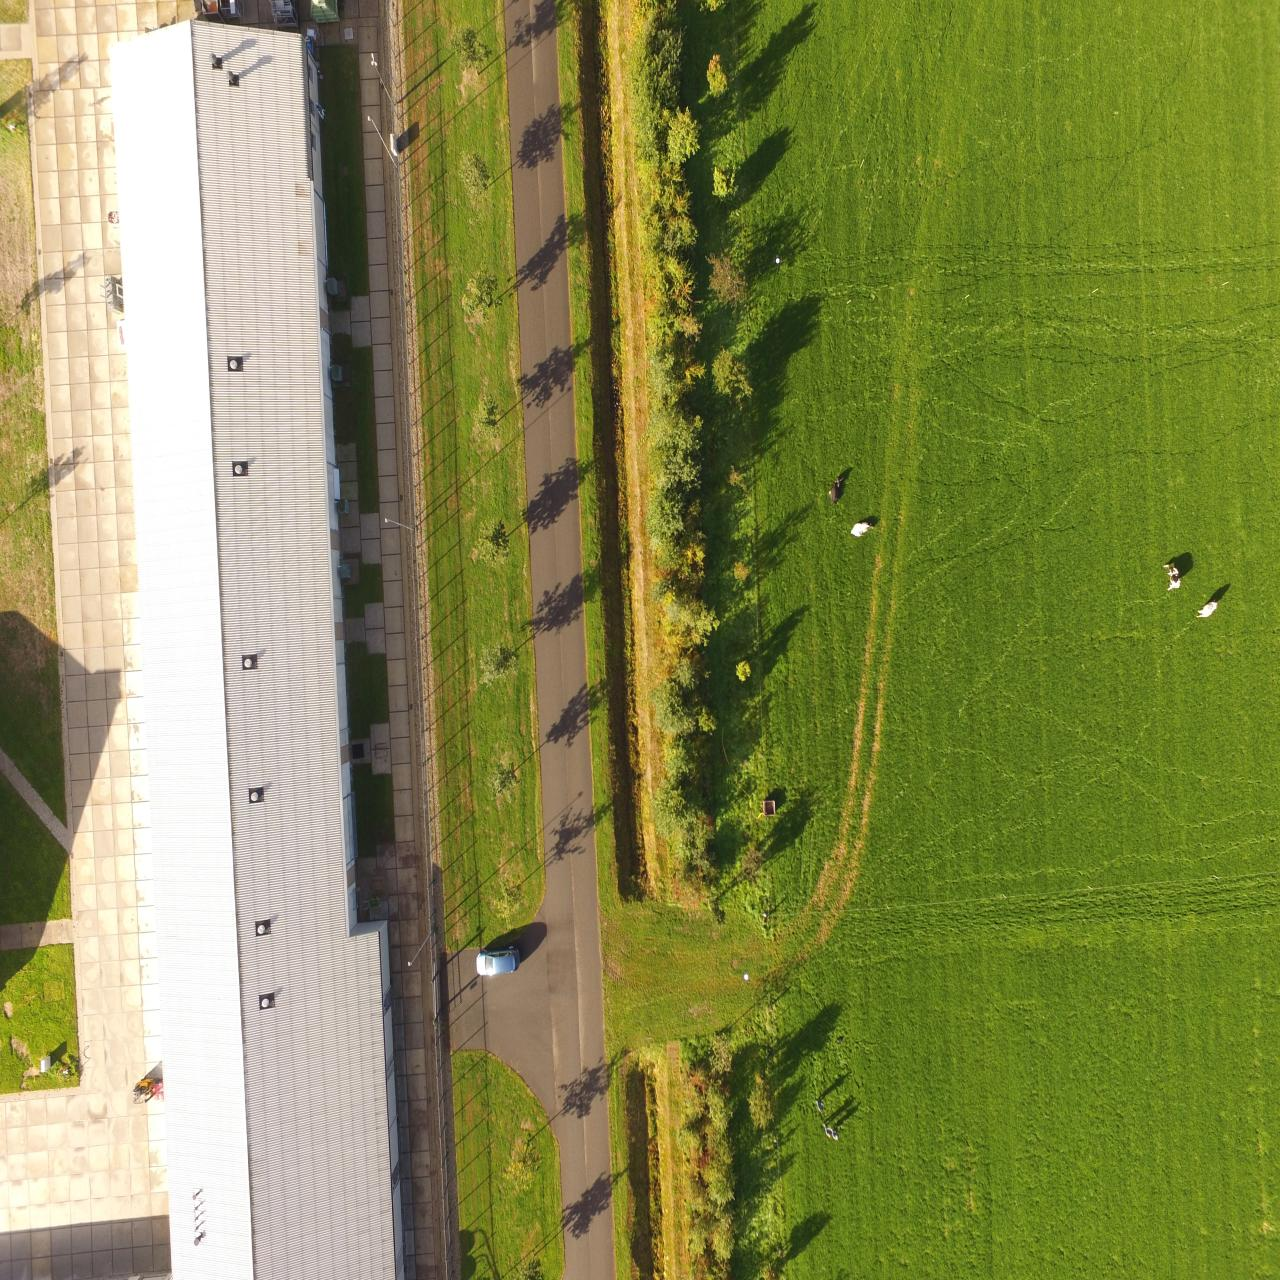cow: (1159, 564, 1183, 592), (1194, 597, 1218, 618), (829, 472, 844, 504), (850, 520, 874, 537)
